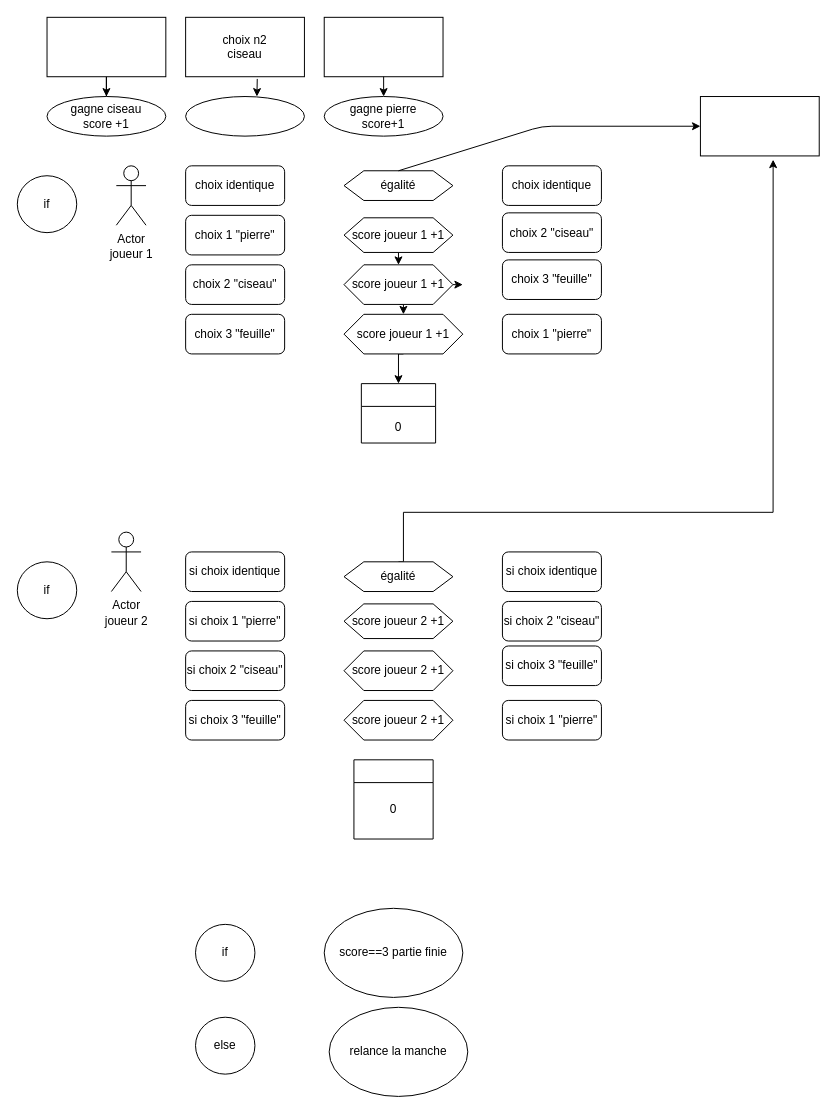
Some shapes in this 837 by 1114 pixel diagram are drawn without their labels. Each missing label, with the box of its shape:
choix n1 pierre: (46, 16, 166, 77)
choix n3 feuille: (323, 16, 443, 77)
gagne feuille score+1: (185, 96, 304, 136)
Relance une manche: (699, 96, 819, 156)
score joueur 1: (360, 383, 436, 443)
score joueur2: (353, 759, 433, 839)
